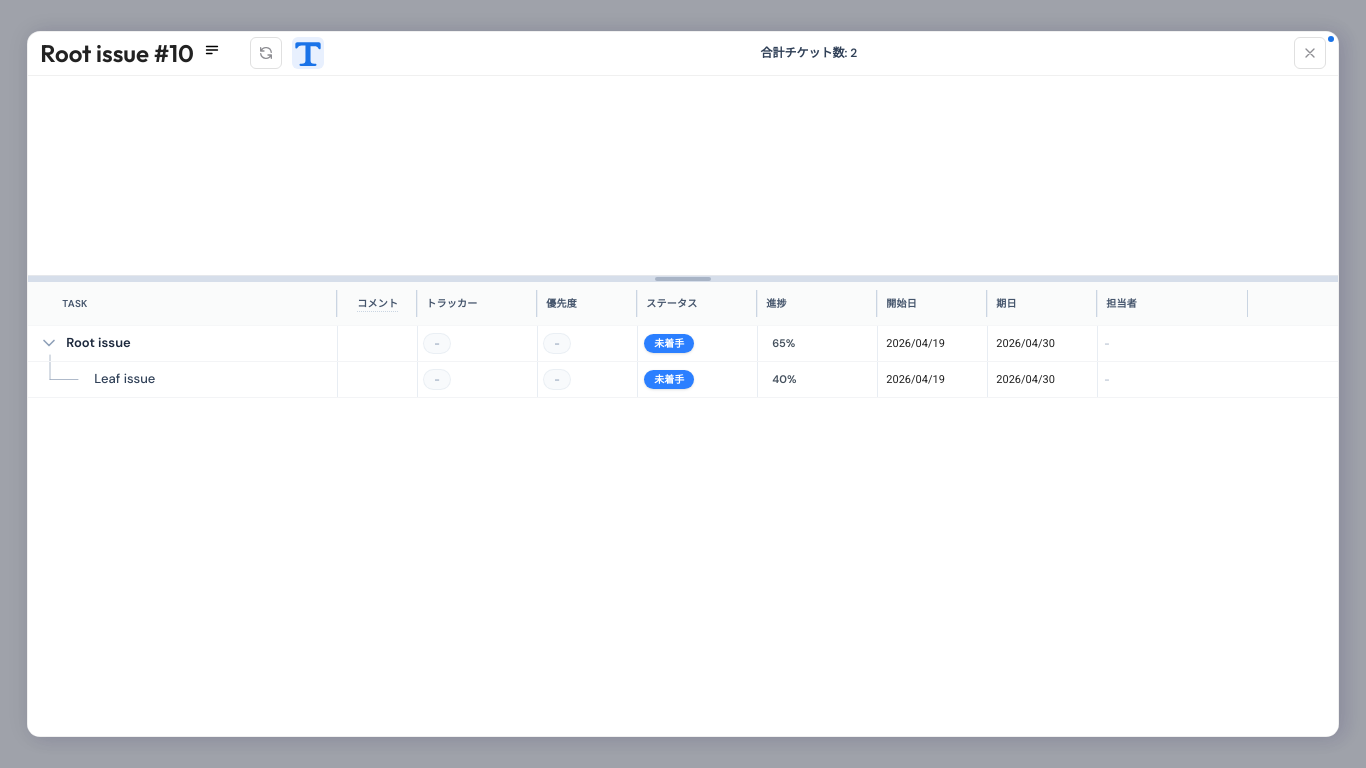
Scenario: TaskDetailsDialog › commits a date change when clicking a calendar day in the inline date picker
The image size is (1366, 768).
Double-click the button with test id "start-date-display-11" at (916, 379), box left=886, top=373, right=945, bottom=386
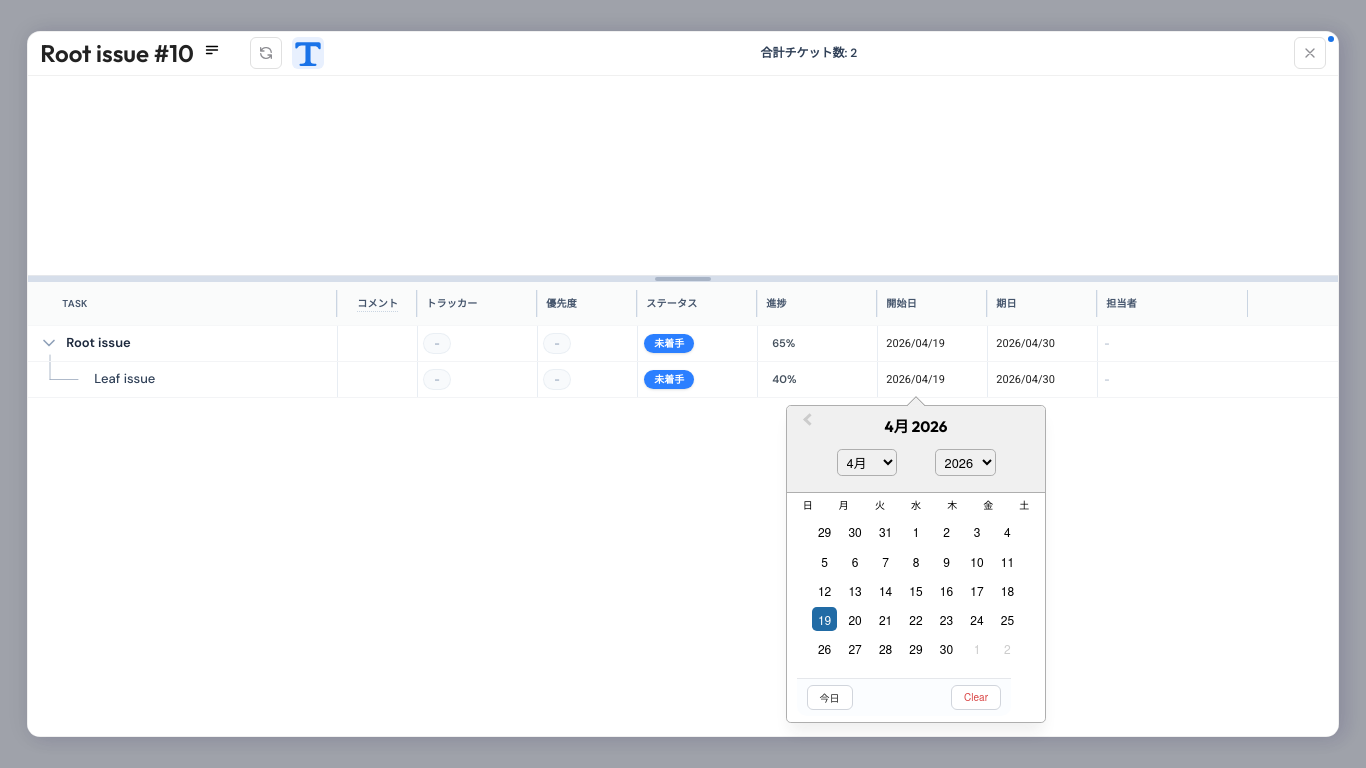
Click the cell named "2026年4月22日" at (916, 620), box left=909, top=611, right=923, bottom=628
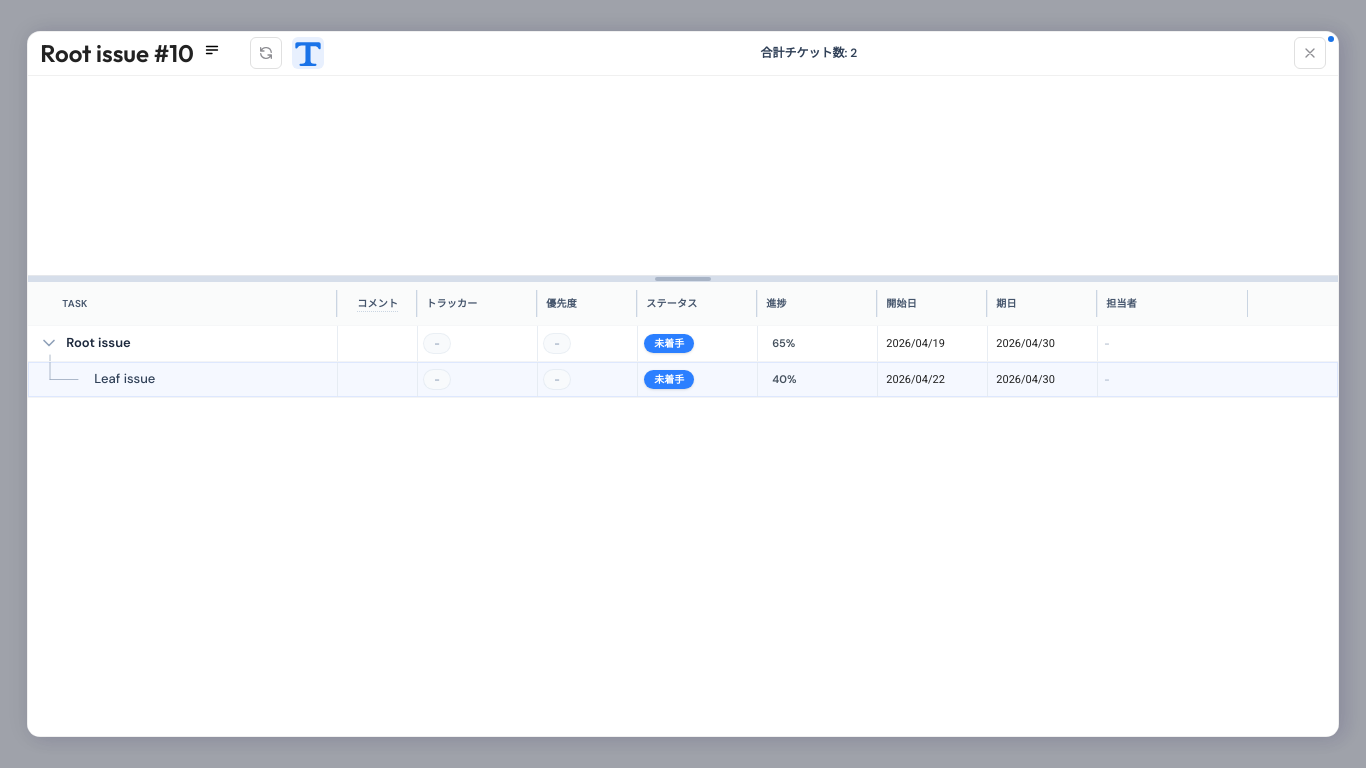
Expected: the button with test id "start-date-display-11" reads "2026/04/22", left=886, top=373, right=945, bottom=386
